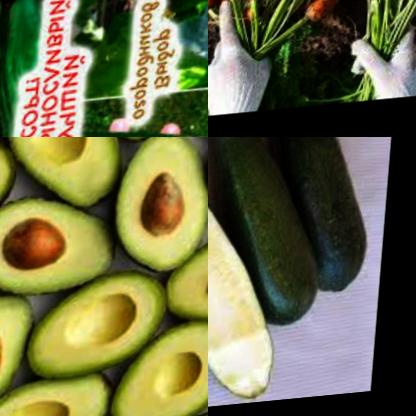avocado: (0, 173, 128, 307), (27, 275, 180, 377), (112, 137, 208, 274), (4, 137, 130, 218), (112, 332, 208, 416), (0, 276, 53, 416), (0, 379, 132, 416), (177, 214, 208, 337), (104, 137, 200, 151)
cucumber: (0, 0, 56, 137), (74, 0, 208, 49)
vegetable marrow: (208, 137, 343, 340), (239, 137, 405, 301), (208, 137, 304, 416)
